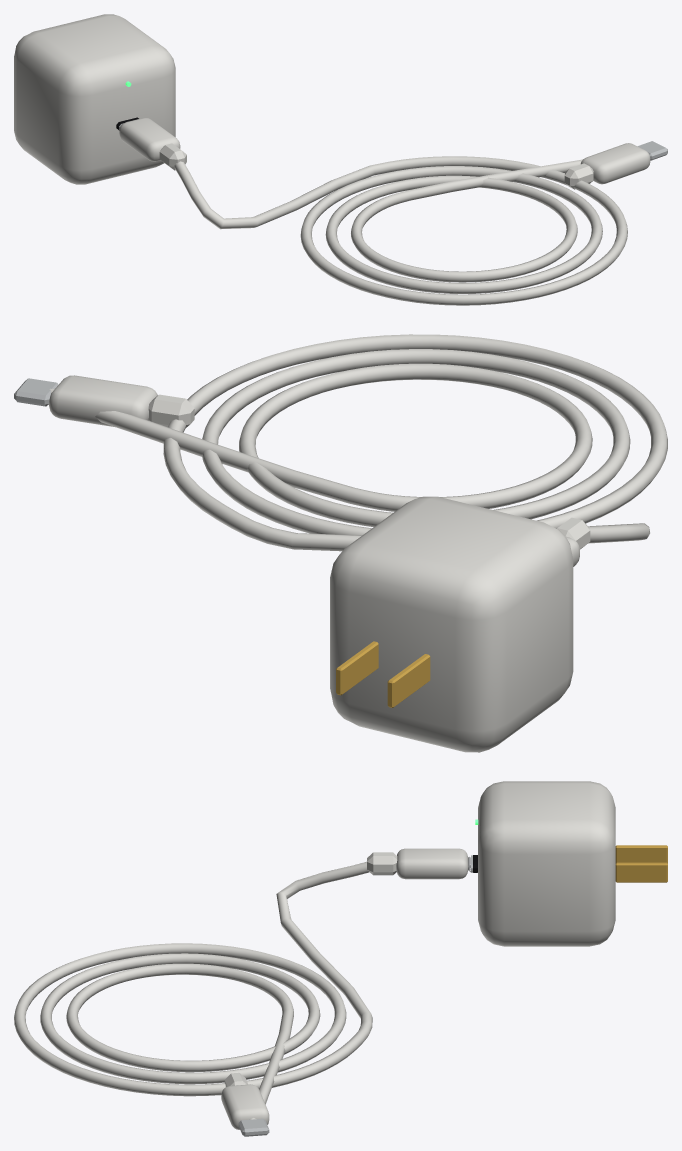
Rendered from usb-wall-charger.glb.
3 views of the same model, one above another, from view 1: azimuth 30°, elevation 25°; view 2: azimuth 150°, elevation 25°; view 3: azimuth 270°, elevation 25° (orthographic). The views are drawn at different scales.
Parts seen in each view (by area): view 1: USB_Wall_Charger; view 2: USB_Wall_Charger; view 3: USB_Wall_Charger.
Boxes of the visible parts, x1,y1,x2,y2 form: USB_Wall_Charger: [14, 14, 667, 305]; USB_Wall_Charger: [14, 334, 667, 752]; USB_Wall_Charger: [14, 781, 667, 1136].
Bounding box in the file's own units: 0.1785 × 0.0421 × 0.1998.
